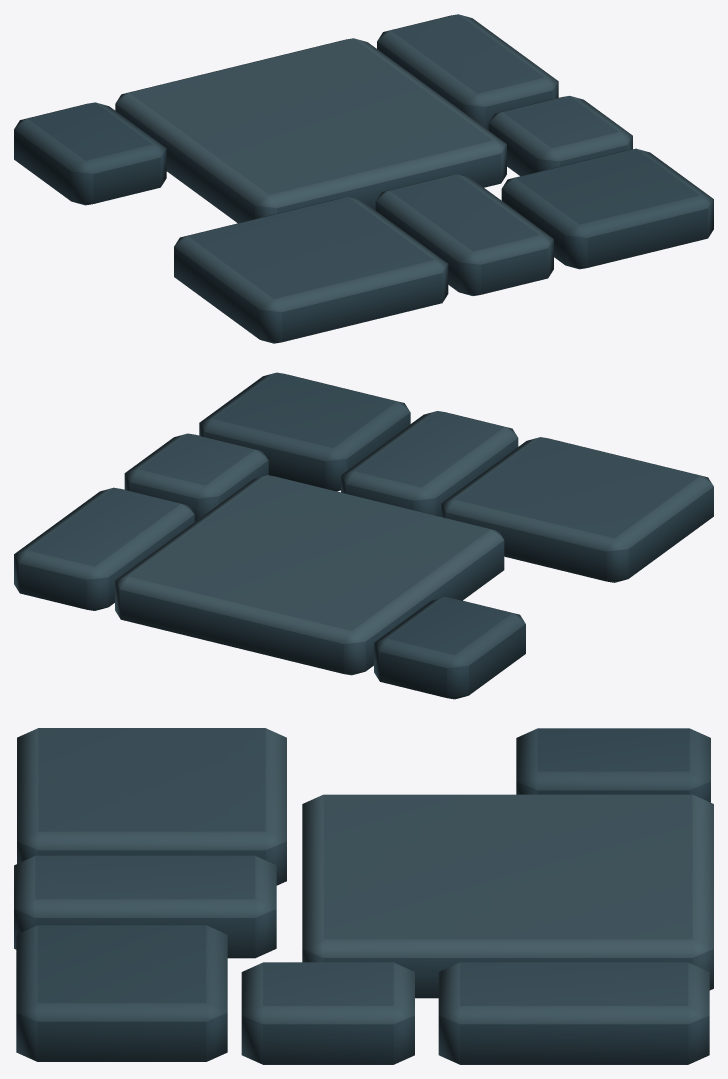
The model's file is stone_path_1.fbx.
The picture shows the model from 3 angles, top to bottom: view 1: azimuth 30°, elevation 25°; view 2: azimuth 150°, elevation 25°; view 3: azimuth 270°, elevation 25°; orthographic projection. The views are drawn at different scales.
Parts seen in each view (by area): view 1: stone_path_1; view 2: stone_path_1; view 3: stone_path_1.
Boxes of the visible parts, bbox=[...] form: stone_path_1: bbox=[14, 14, 713, 343]; stone_path_1: bbox=[14, 372, 713, 699]; stone_path_1: bbox=[14, 728, 713, 1064].
Bounding box in the file's own units: 196 × 18.28 × 196.
